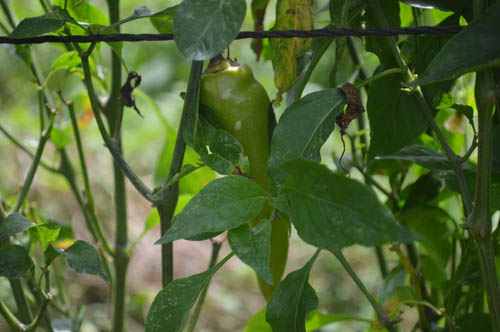ChiliPepper: (202, 69, 288, 301)
